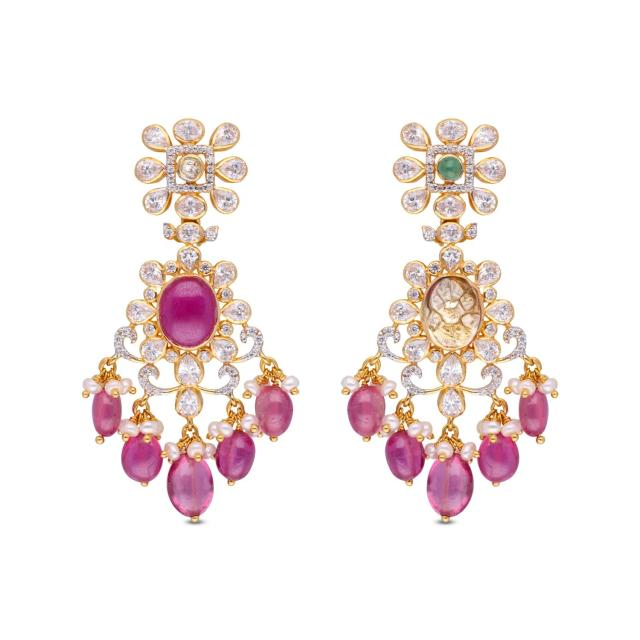missing gem: (423, 276, 480, 349), (180, 157, 201, 179)
